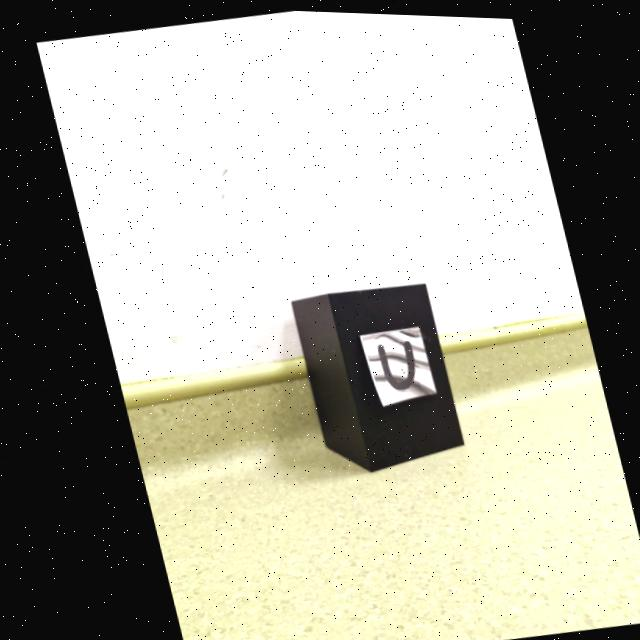U: (372, 339, 408, 388)
